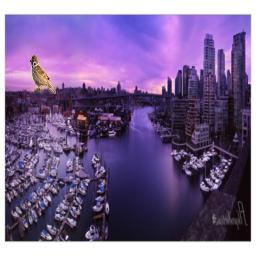Sparrow: (30, 55, 56, 94)
